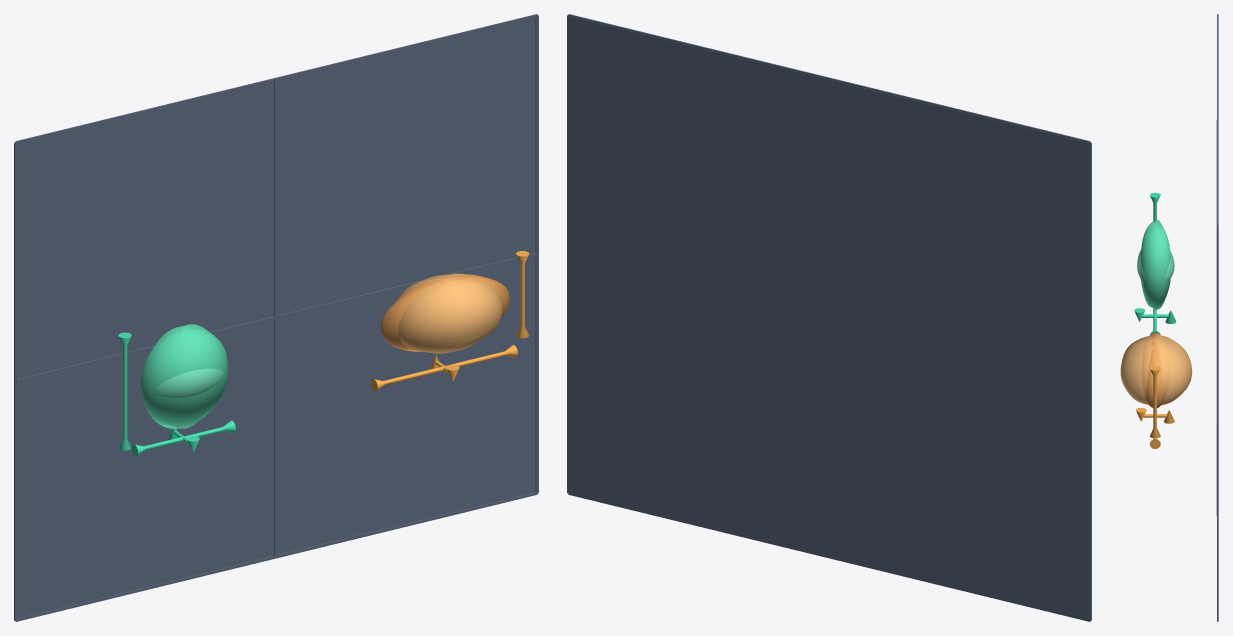
The model's file is lipoma-isolated.glb.
The picture shows the model from 3 angles, left to right: view 1: azimuth 30°, elevation 25°; view 2: azimuth 150°, elevation 25°; view 3: azimuth 270°, elevation 25°; orthographic projection. The views are drawn at different scales.
Parts seen in each view (by area): view 1: ScaleGrid_1cm, Lipoma_Right_2025_26x10x29mm, Lipoma_Left_2026_32x23mm, Lipoma_Left_2025_39x9x20mm, Caliper_Left_39x9x20mm, Caliper_Right_26x10x29mm, Lipoma_Right_2026_24x12mm; view 2: ScaleGrid_1cm; view 3: Lipoma_Left_2026_32x23mm, Lipoma_Right_2025_26x10x29mm, ScaleGrid_1cm, Lipoma_Left_2025_39x9x20mm, Caliper_Left_39x9x20mm, Caliper_Right_26x10x29mm, Lipoma_Right_2026_24x12mm.
Boxes of the visible parts, box(x1,y1,x2,y2) form: ScaleGrid_1cm: box(14, 14, 538, 621); Lipoma_Right_2025_26x10x29mm: box(141, 324, 228, 428); Lipoma_Left_2026_32x23mm: box(395, 273, 502, 353); Lipoma_Left_2025_39x9x20mm: box(381, 274, 509, 351); Caliper_Left_39x9x20mm: box(371, 251, 529, 391); Caliper_Right_26x10x29mm: box(118, 332, 235, 456); Lipoma_Right_2026_24x12mm: box(155, 368, 224, 397); ScaleGrid_1cm: box(567, 14, 1091, 621); Lipoma_Left_2026_32x23mm: box(1120, 335, 1192, 405); Lipoma_Right_2025_26x10x29mm: box(1140, 220, 1170, 310); ScaleGrid_1cm: box(1216, 14, 1218, 621); Lipoma_Left_2025_39x9x20mm: box(1143, 332, 1168, 408); Caliper_Left_39x9x20mm: box(1135, 366, 1174, 448); Caliper_Right_26x10x29mm: box(1134, 192, 1176, 334); Lipoma_Right_2026_24x12mm: box(1137, 250, 1174, 282).
Bounding box in the file's own units: 16.08 × 14.08 × 3.15.
